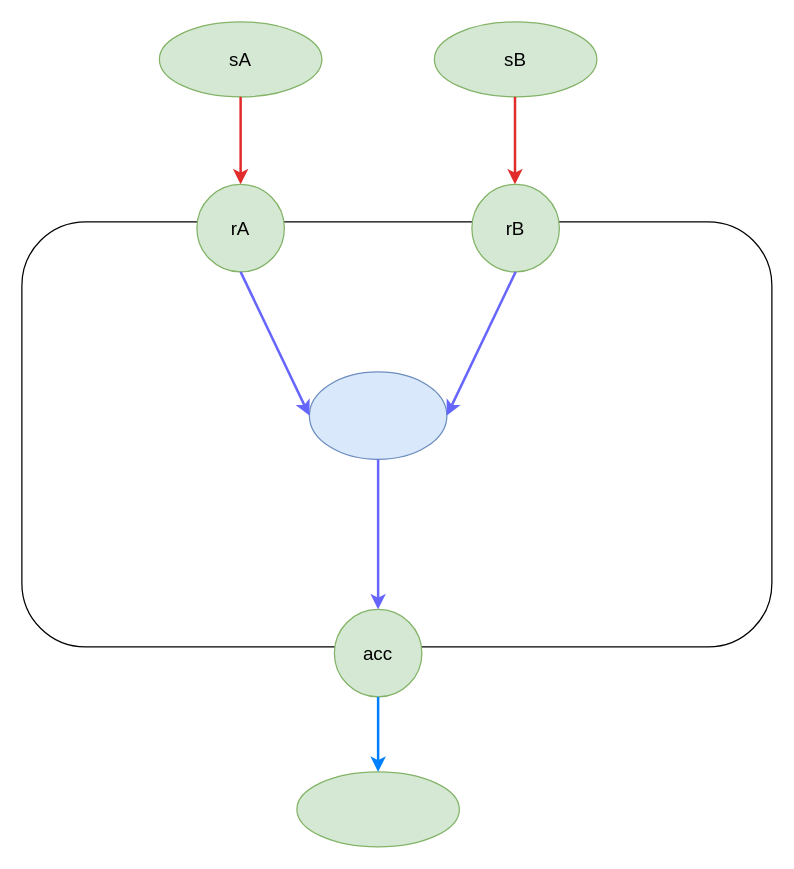
This 794x869 diagram has some shape labels left out. The shapes that lost their labels are listed below. From the top down, each one's centre as x and y in pixels, then its label:
the point at 377,415: matmul
the point at 377,809: sC
